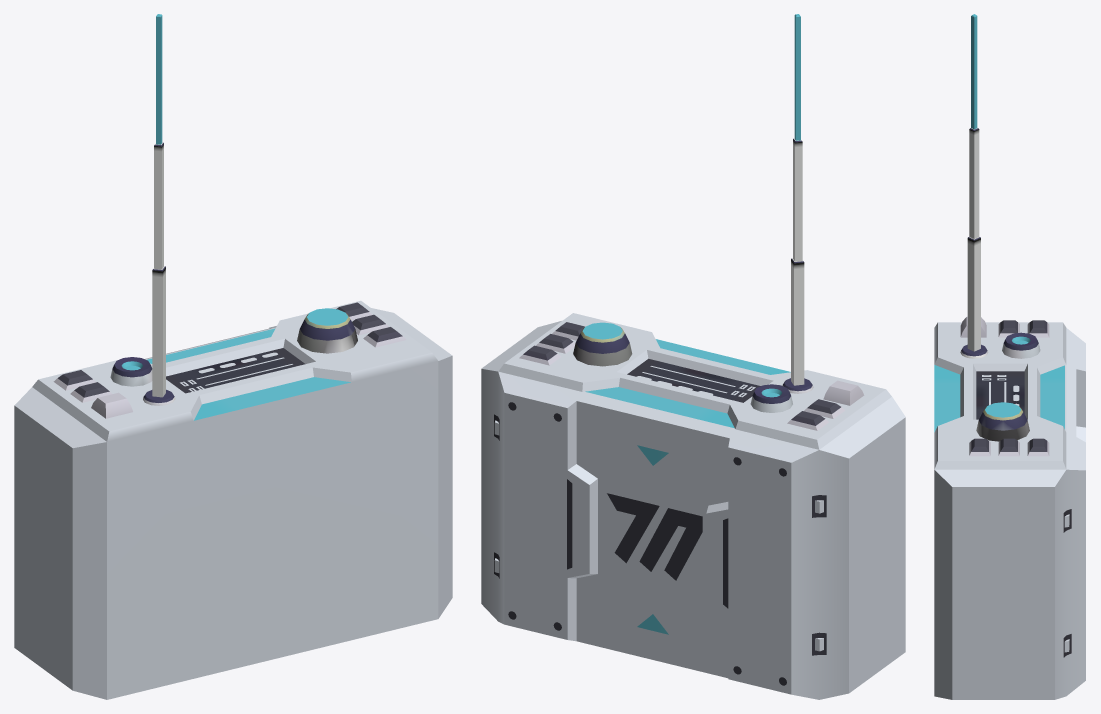
File: KeiReturn.fbx
3 views of the same model, side by side, from view 1: azimuth 30°, elevation 25°; view 2: azimuth 150°, elevation 25°; view 3: azimuth 270°, elevation 25° (orthographic). The views are drawn at different scales.
Parts seen in each view (by area): view 1: keyReturn; view 2: keyReturn; view 3: keyReturn.
Part boxes in pixels (left/top/right/bottom): keyReturn: left=14, top=14, right=452, bottom=699; keyReturn: left=481, top=14, right=905, bottom=699; keyReturn: left=934, top=14, right=1085, bottom=699.
Bounding box in the file's own units: 0.3768 × 0.6181 × 0.1487.
